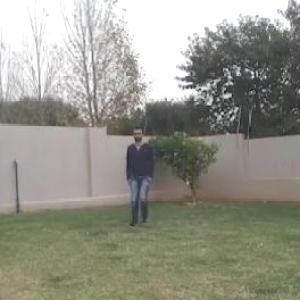follow: (128, 125, 152, 226)
